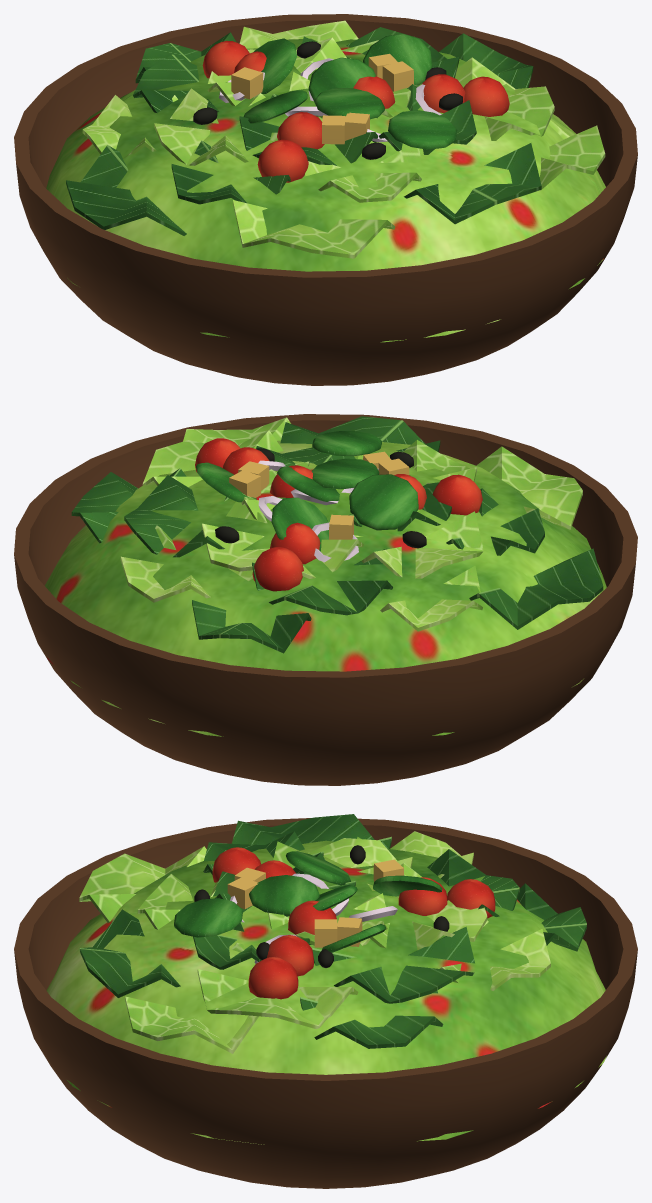
The model's file is meal_salad_bowl_wood.glb.
3 renders of one model, top to bottom at view 1: azimuth 30°, elevation 25°; view 2: azimuth 150°, elevation 25°; view 3: azimuth 270°, elevation 25°, orthographic.
Parts seen in each view (by area): view 1: meal_salad_bowl_wood; view 2: meal_salad_bowl_wood; view 3: meal_salad_bowl_wood.
Boxes of the visible parts, box(x1,y1,x2,y2) form: meal_salad_bowl_wood: box(14, 14, 637, 385); meal_salad_bowl_wood: box(14, 414, 637, 785); meal_salad_bowl_wood: box(14, 814, 637, 1188).
Size of the model in its own units: 0.3 by 0.1293 by 0.3.
Materials: 9 (5 with a texture image).
